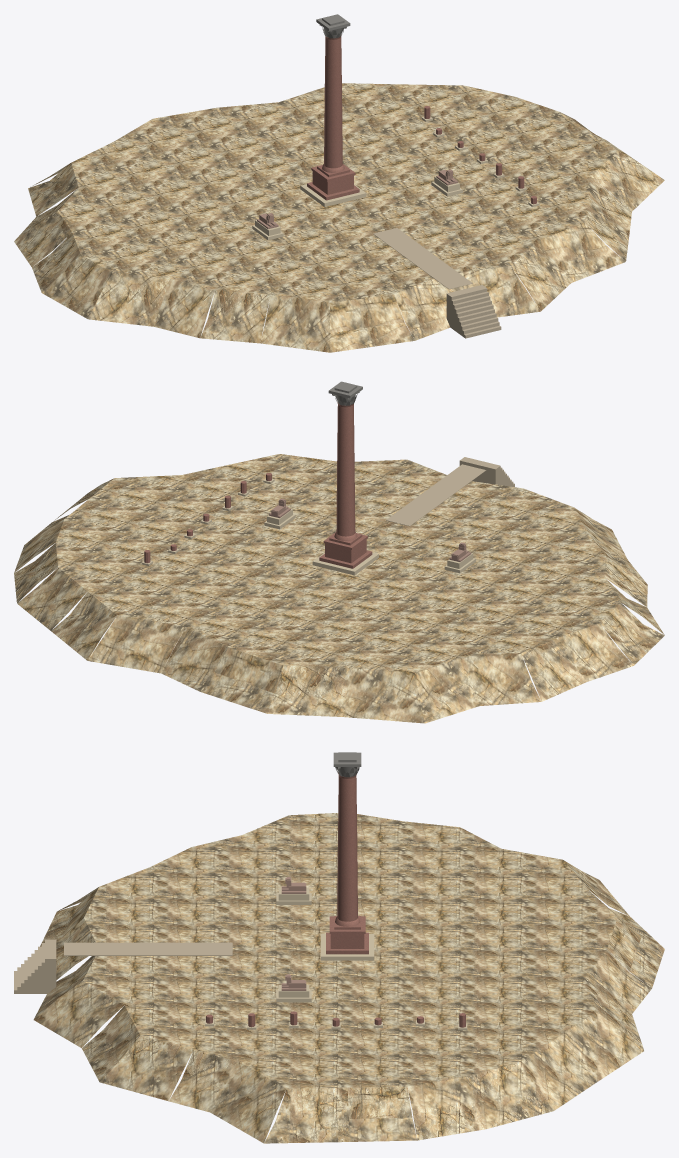
Rendered from pompey.glb.
3 renders of one model, top to bottom at view 1: azimuth 30°, elevation 25°; view 2: azimuth 150°, elevation 25°; view 3: azimuth 270°, elevation 25°, orthographic. The views are drawn at different scales.
Visible parts, largest first — view 1: PompeysPillar; view 2: PompeysPillar; view 3: PompeysPillar.
Boxes of the visible parts, bbox=[...] form: PompeysPillar: bbox=[14, 14, 664, 352]; PompeysPillar: bbox=[14, 381, 664, 723]; PompeysPillar: bbox=[14, 752, 664, 1143].
Size of the model in its own units: 97.6 by 32.78 by 84.89.
3 materials, 3 textured.
